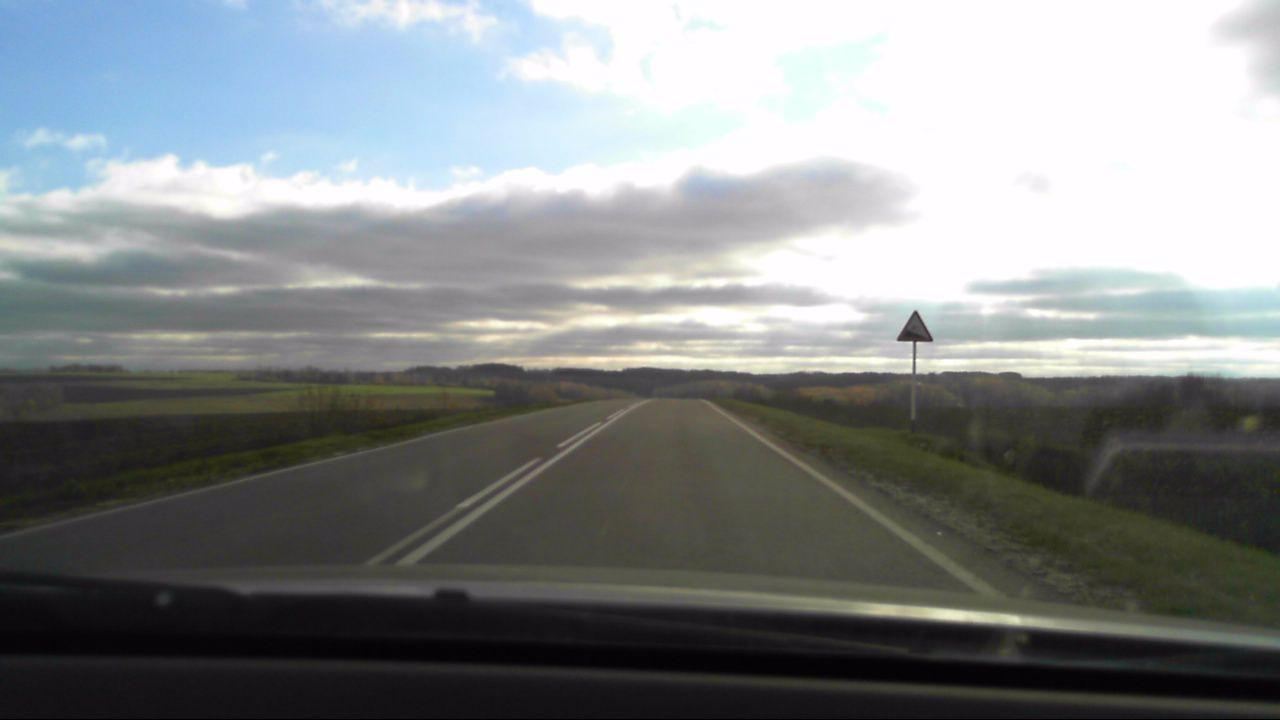1_13: (897, 311, 931, 345)
